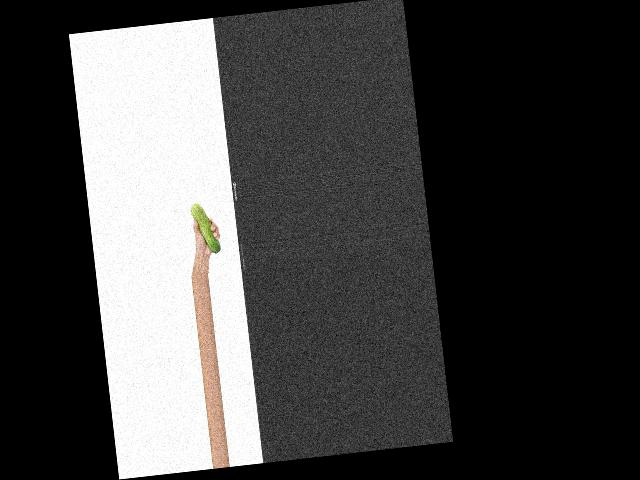cucumber: (189, 202, 221, 256)
